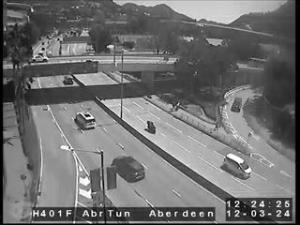motorbike: (146, 122, 156, 134)
vehicle: (111, 155, 145, 183), (221, 152, 251, 179), (74, 111, 96, 129), (232, 98, 242, 112), (32, 56, 48, 62), (65, 76, 73, 84)
